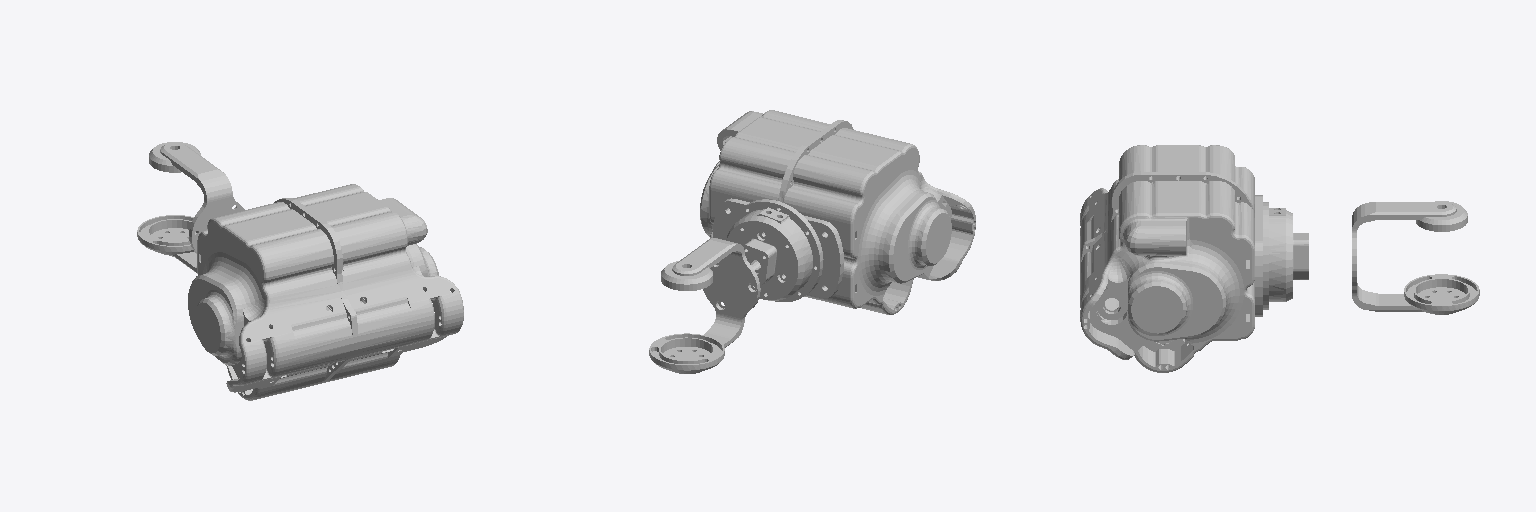
File: endEffector_left.obj
The picture shows the model from 3 angles: view 1: azimuth 30°, elevation 25°; view 2: azimuth 150°, elevation 25°; view 3: azimuth 270°, elevation 25°; orthographic projection.
Parts seen in each view (by area): view 1: palm_palm.001, wrist_yaw_right.003, wrist_yaw_right_flange.003; view 2: palm_palm.001, wrist_yaw_right.003, wrist_yaw_right_flange.003; view 3: palm_palm.001, wrist_yaw_right.003, wrist_yaw_right_flange.003.
Part boxes in pixels (x1,y1,x2,y2): palm_palm.001: (188,184,463,400); wrist_yaw_right.003: (149,142,244,273); wrist_yaw_right_flange.003: (137,215,197,254); palm_palm.001: (700,110,975,314); wrist_yaw_right.003: (661,238,760,373); wrist_yaw_right_flange.003: (649,333,724,372); palm_palm.001: (1080,145,1308,372); wrist_yaw_right.003: (1352,201,1467,314); wrist_yaw_right_flange.003: (1404,274,1479,313).
Size of the model in its own units: 0.154 by 0.1113 by 0.2431.